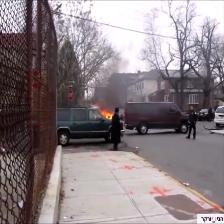fire: (96, 92, 120, 127)
